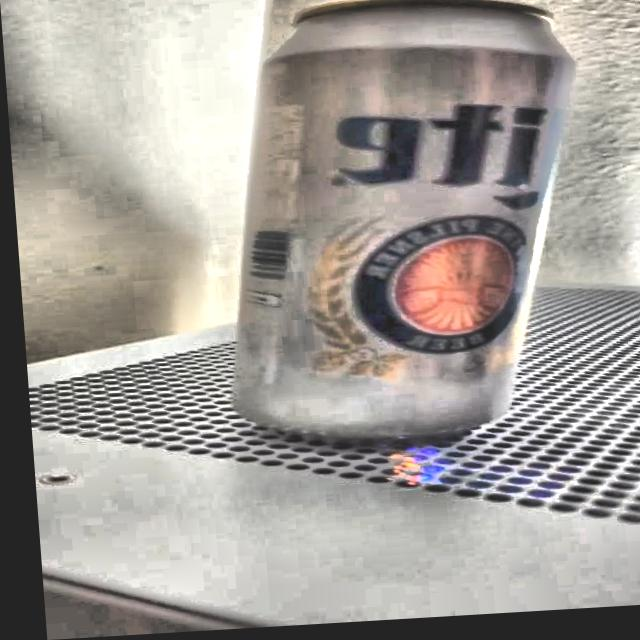can: (186, 0, 596, 462)
